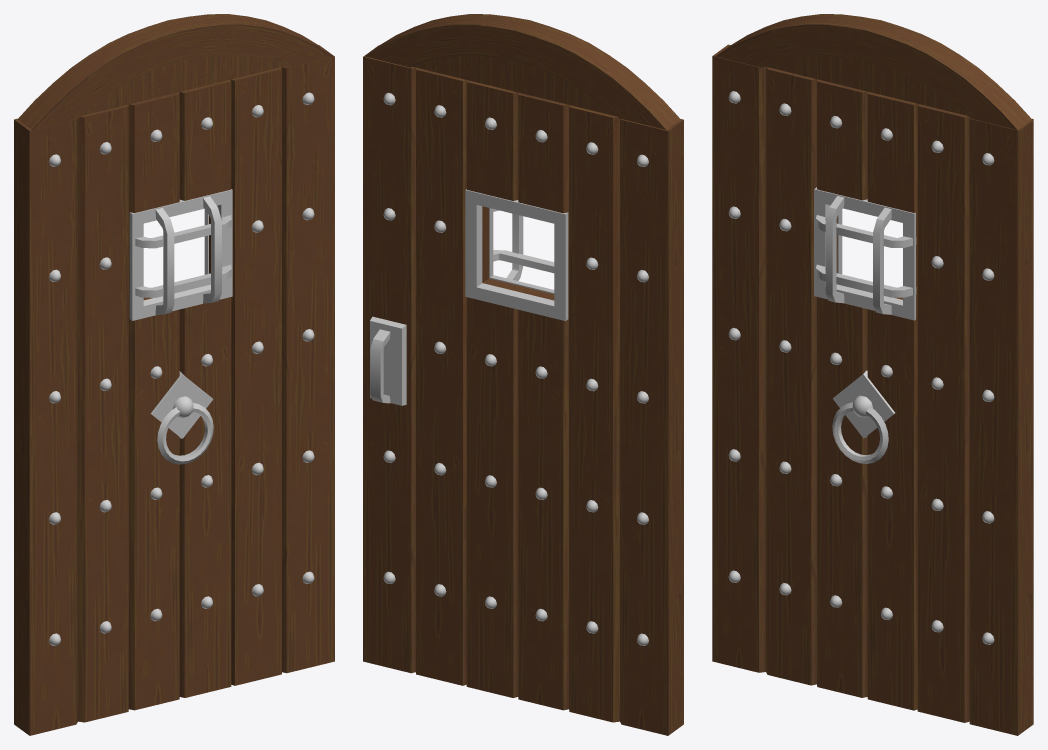
The model's file is Door_2_Round.gltf.
3 renders of one model, left to right at view 1: azimuth 30°, elevation 25°; view 2: azimuth 150°, elevation 25°; view 3: azimuth 330°, elevation 25°, orthographic.
Visible parts, largest first — view 1: Door_2_Round; view 2: Door_2_Round; view 3: Door_2_Round.
Part boxes in pixels (bbox=[...]): Door_2_Round: bbox=[14, 14, 334, 735]; Door_2_Round: bbox=[363, 14, 683, 735]; Door_2_Round: bbox=[712, 14, 1033, 735].
Size of the model in its own units: 1.12 by 2.33 by 0.2609.
